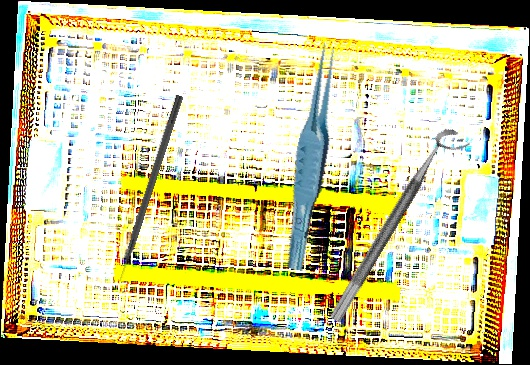Fixation Ring: (328, 123, 472, 334)
Hook Surgical: (113, 93, 184, 283)
Tissue Forceps: (270, 42, 355, 272)
